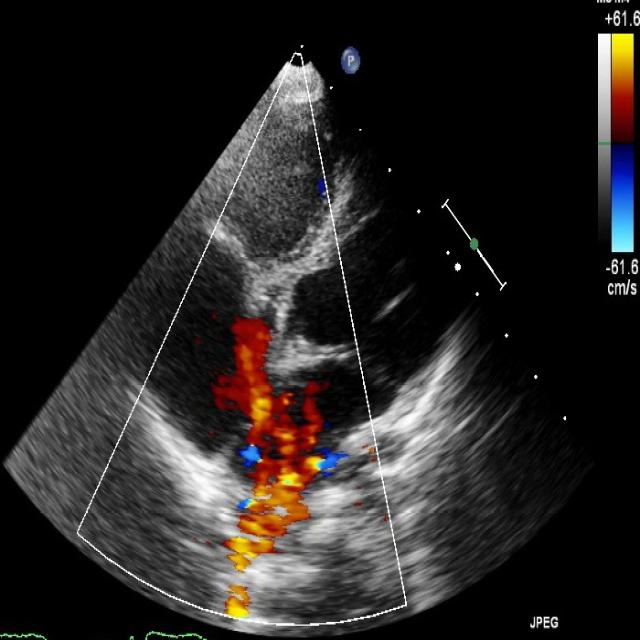ASDType2: (217, 318, 314, 480)
